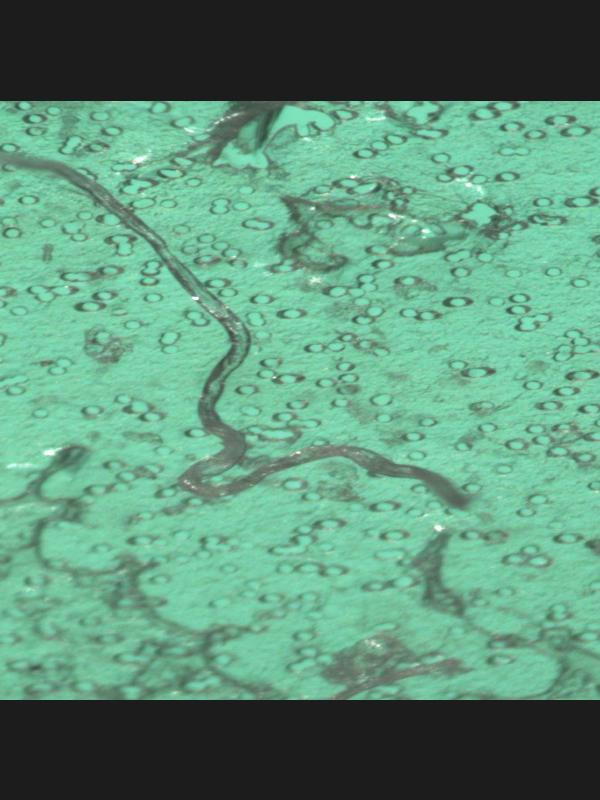microplastic: (0, 101, 600, 698), (0, 136, 472, 511)
